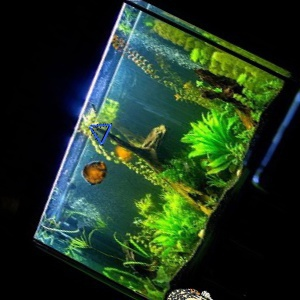triangle: (87, 122, 115, 147)
